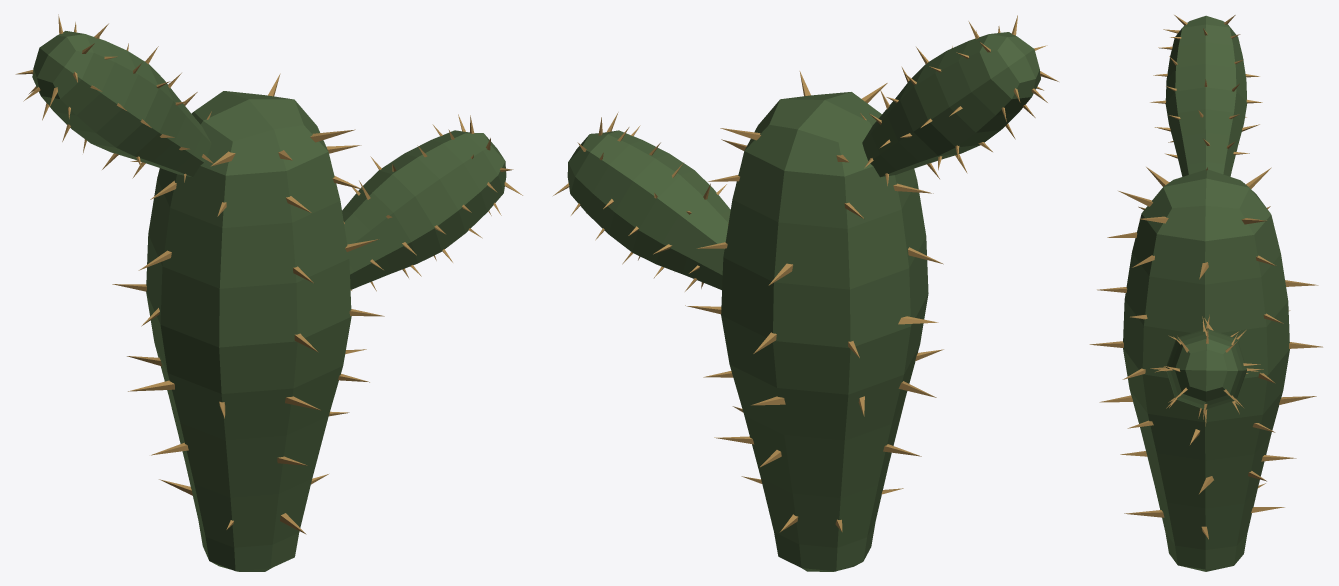
The model's file is cactus_harvested.gltf.
3 views of the same model, side by side, from view 1: azimuth 30°, elevation 25°; view 2: azimuth 150°, elevation 25°; view 3: azimuth 270°, elevation 25° (orthographic). The views are drawn at different scales.
Visible parts, largest first — view 1: cactus_harvested; view 2: cactus_harvested; view 3: cactus_harvested.
Boxes of the visible parts, left/top/right/bottom form: cactus_harvested: left=15, top=14, right=522, bottom=571; cactus_harvested: left=553, top=15, right=1058, bottom=571; cactus_harvested: left=1089, top=15, right=1322, bottom=571.
Bounding box in the file's own units: 1.09 × 1.26 × 0.5629.
Materials: 1 (1 with a texture image).
